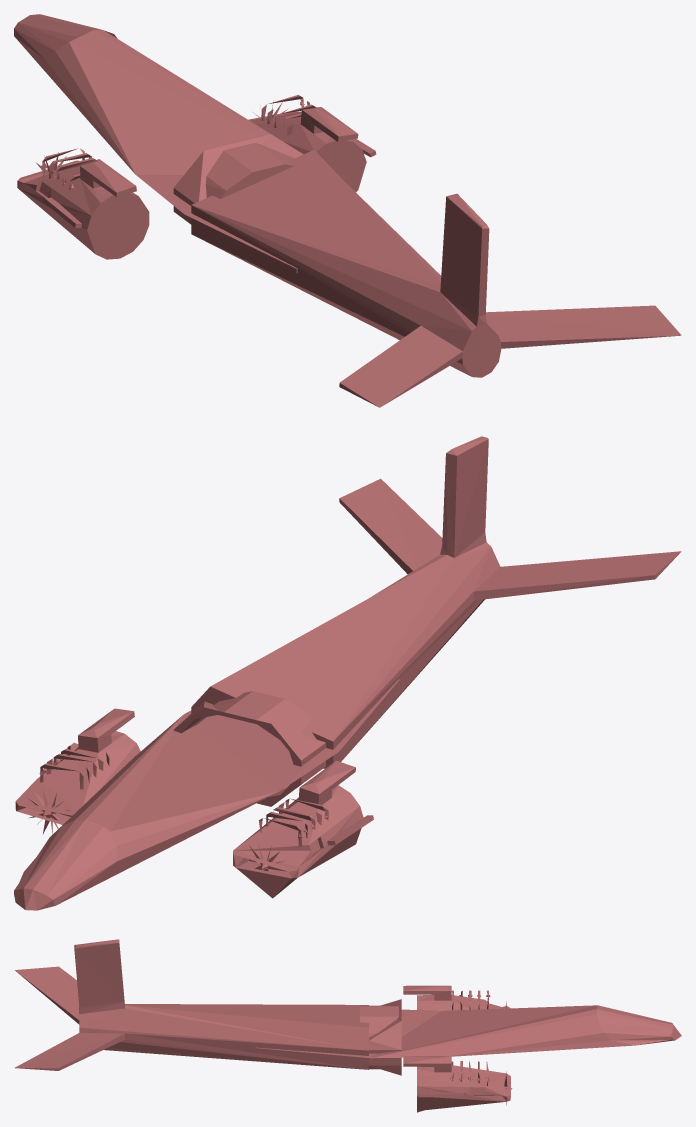
File: private-jet.lod2.glb
3 views of the same model, one above another, from view 1: azimuth 30°, elevation 25°; view 2: azimuth 150°, elevation 25°; view 3: azimuth 270°, elevation 25° (orthographic). The views are drawn at different scales.
Visible parts, largest first — view 1: Sphere001_Unwrap Texture Checker Material_0; view 2: Sphere001_Unwrap Texture Checker Material_0; view 3: Sphere001_Unwrap Texture Checker Material_0.
Boxes of the visible parts, bbox=[...] form: Sphere001_Unwrap Texture Checker Material_0: bbox=[14, 14, 681, 407]; Sphere001_Unwrap Texture Checker Material_0: bbox=[14, 436, 681, 910]; Sphere001_Unwrap Texture Checker Material_0: bbox=[14, 939, 681, 1112].
Size of the model in its own units: 6.94 by 4.32 by 19.23.
